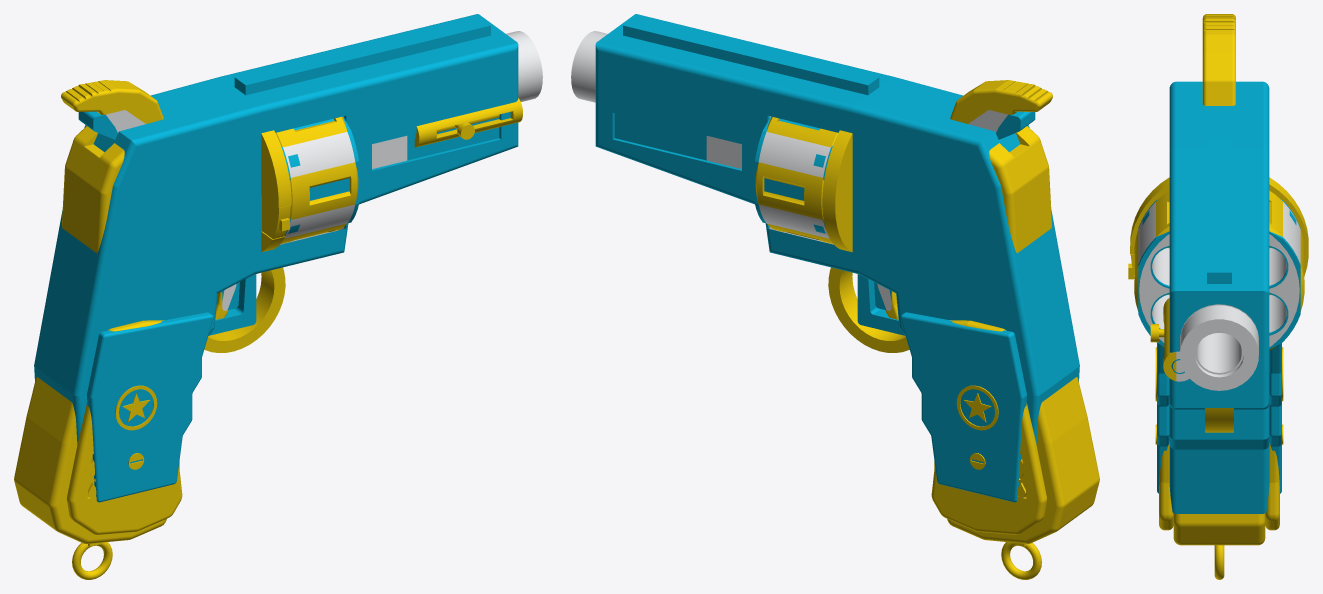
3 views of the same model, side by side, from view 1: azimuth 30°, elevation 25°; view 2: azimuth 150°, elevation 25°; view 3: azimuth 270°, elevation 25° (orthographic). The views are drawn at different scales.
Parts seen in each view (by area): view 1: =>[0:1:1:30], =>[0:1:1:63], =>[0:1:1:73], =>[0:1:1:98], =>[0:1:1:72], =>[0:1:1:18], =>[0:1:1:102], =>[0:1:1:74], =>[0:1:1:81], =>[0:1:1:88], =>[0:1:1:77], =>[0:1:1:28] (+6 smaller); view 2: =>[0:1:1:30], =>[0:1:1:60], =>[0:1:1:73], =>[0:1:1:93], =>[0:1:1:72], =>[0:1:1:18], =>[0:1:1:78], =>[0:1:1:102], =>[0:1:1:74], =>[0:1:1:84], =>[0:1:1:28], =>[0:1:1:66] (+4 smaller); view 3: =>[0:1:1:30], =>[0:1:1:18], =>[0:1:1:28], =>[0:1:1:102], =>[0:1:1:73], =>[0:1:1:19], =>[0:1:1:60], =>[0:1:1:63], =>[0:1:1:36], =>[0:1:1:93], =>[0:1:1:98], =>[0:1:1:78] (+9 smaller).
Part boxes in pixels (box(x1,y1,x2,y2)): =>[0:1:1:30]: box(34, 14, 518, 444); =>[0:1:1:63]: box(87, 312, 213, 502); =>[0:1:1:73]: box(14, 377, 166, 543); =>[0:1:1:98]: box(67, 403, 182, 534); =>[0:1:1:72]: box(62, 126, 124, 253); =>[0:1:1:18]: box(283, 132, 355, 238); =>[0:1:1:102]: box(61, 80, 163, 123); =>[0:1:1:74]: box(204, 267, 285, 352); =>[0:1:1:81]: box(290, 162, 358, 219); =>[0:1:1:88]: box(414, 98, 522, 147); =>[0:1:1:77]: box(261, 130, 291, 207); =>[0:1:1:28]: box(506, 31, 542, 101); =>[0:1:1:30]: box(595, 14, 1079, 444); =>[0:1:1:60]: box(900, 312, 1026, 502); =>[0:1:1:73]: box(947, 377, 1099, 543); =>[0:1:1:93]: box(931, 403, 1046, 534); =>[0:1:1:72]: box(989, 126, 1051, 253); =>[0:1:1:18]: box(758, 132, 830, 238); =>[0:1:1:78]: box(822, 130, 852, 252); =>[0:1:1:102]: box(950, 80, 1052, 123); =>[0:1:1:74]: box(828, 267, 909, 352); =>[0:1:1:84]: box(755, 162, 823, 219); =>[0:1:1:28]: box(571, 31, 607, 102); =>[0:1:1:66]: box(857, 274, 905, 335); =>[0:1:1:30]: box(1169, 81, 1269, 513); =>[0:1:1:18]: box(1138, 202, 1300, 347); =>[0:1:1:28]: box(1180, 305, 1258, 390); =>[0:1:1:102]: box(1202, 14, 1235, 105); =>[0:1:1:73]: box(1173, 513, 1265, 545); =>[0:1:1:19]: box(1195, 333, 1243, 374); =>[0:1:1:60]: box(1269, 343, 1281, 493); =>[0:1:1:63]: box(1157, 343, 1169, 493); =>[0:1:1:36]: box(1138, 231, 1300, 349); =>[0:1:1:93]: box(1265, 442, 1279, 530); =>[0:1:1:98]: box(1159, 442, 1173, 530); =>[0:1:1:78]: box(1269, 177, 1308, 295).
Size of the model in its own units: 155 by 147 by 43.33.
